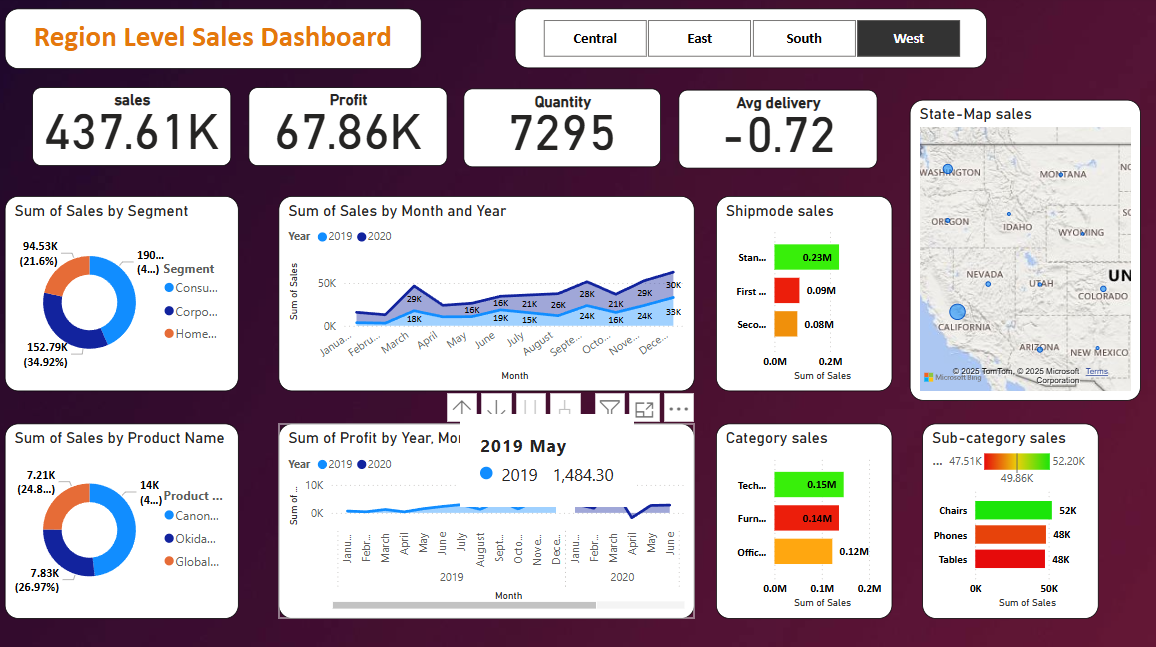

This screenshot's page, from the dashboard's own definition file:
{"tool":"powerbi","page":{"name":"Dashboard","canvas":[1280,720],"ordinal":0},"visuals":[{"type":"textbox","box":[9.7,13.3,457.2,66.4],"z":0},{"type":"clusteredBarChart","title":"Shipmode sales","fields":{"Category":["Orders.Ship Mode"],"Y":["Sum(Orders.Sales)"]},"box":[790.4,219.6,193.5,214.1],"z":1000},{"type":"clusteredBarChart","title":"Category sales","fields":{"Category":["Orders.Category"],"Y":["Sum(Orders.Sales)"]},"box":[790.4,469.3,193.5,214.1],"z":2000},{"type":"clusteredBarChart","title":"Sub-category sales","fields":{"Y":["Sum(Orders.Sales)"],"Category":["Orders.Sub-Category"]},"box":[1016.8,469.3,193.5,214.1],"z":3000},{"type":"stackedAreaChart","fields":{"Category":["Orders.Order Date.Variation.Date Hierarchy.Month"],"Y":["Sum(Orders.Sales)"],"Series":["Orders.Order Date.Variation.Date Hierarchy.Year"]},"box":[310.1,219.6,456.9,214.1],"z":4000},{"type":"stackedAreaChart","fields":{"Series":["Orders.Order Date.Variation.Date Hierarchy.Year"],"Category":["Orders.Order Date.Variation.Date Hierarchy.Year","Orders.Order Date.Variation.Date Hierarchy.Month"],"Y":["Sum(Orders.Profit)"]},"box":[310.1,469.3,456.9,214.1],"z":5000},{"type":"donutChart","fields":{"Category":["Orders.Segment"],"Y":["Sum(Orders.Sales)"]},"box":[9.6,219.6,256.6,214.1],"z":6000},{"type":"donutChart","fields":{"Y":["Sum(Orders.Sales)"],"Category":["Orders.Product Name"]},"box":[9.6,469.3,256.6,214.1],"z":7000},{"type":"slicer","fields":{"Values":["Orders.Region"]},"box":[569.5,13.7,518.7,65.9],"z":8000},{"type":"card","title":"sales","fields":{"Values":["Sum(Orders.Sales)"]},"box":[39.8,100.2,218.2,86.4],"z":9000},{"type":"card","title":"Profit","fields":{"Values":["Sum(Orders.Profit)"]},"box":[277.2,100.2,218.2,86.4],"z":10000},{"type":"card","title":"Quantity","fields":{"Values":["Sum(Orders.Quantity)"]},"box":[513.2,101.5,216.8,86.4],"z":11000},{"type":"card","title":"Avg delivery","fields":{"Values":["Avg(Orders.Average delivery)"]},"box":[749.2,102.9,218.2,86.4],"z":12000},{"type":"map","title":"State-Map sales","fields":{"Category":["Orders.State"],"Size":["Sum(Orders.Sales)"]},"box":[1003.1,113.9,253.9,330.7],"z":13000}]}

Visuals, with their boxes in screenshot pixels (x1, y1, x2, y2), scaled from the page's 1280x720 canvas onto the 1156x647 screenshot:
textbox: <region>9, 12, 422, 72</region>
"Shipmode sales" clusteredBarChart: <region>714, 197, 889, 390</region>
"Category sales" clusteredBarChart: <region>714, 422, 889, 614</region>
"Sub-category sales" clusteredBarChart: <region>918, 422, 1093, 614</region>
stackedAreaChart - Orders.Order Date.Variation.Date Hierarchy.Month x Sum(Orders.Sales): <region>280, 197, 693, 390</region>
stackedAreaChart - Orders.Order Date.Variation.Date Hierarchy.Year x Orders.Order Date.Variation.Date Hierarchy.Year: <region>280, 422, 693, 614</region>
donutChart - Orders.Segment x Sum(Orders.Sales): <region>9, 197, 240, 390</region>
donutChart - Sum(Orders.Sales) x Orders.Product Name: <region>9, 422, 240, 614</region>
slicer - Orders.Region: <region>514, 12, 983, 72</region>
"sales" card: <region>36, 90, 233, 168</region>
"Profit" card: <region>250, 90, 447, 168</region>
"Quantity" card: <region>463, 91, 659, 169</region>
"Avg delivery" card: <region>677, 92, 874, 170</region>
"State-Map sales" map: <region>906, 102, 1135, 400</region>
